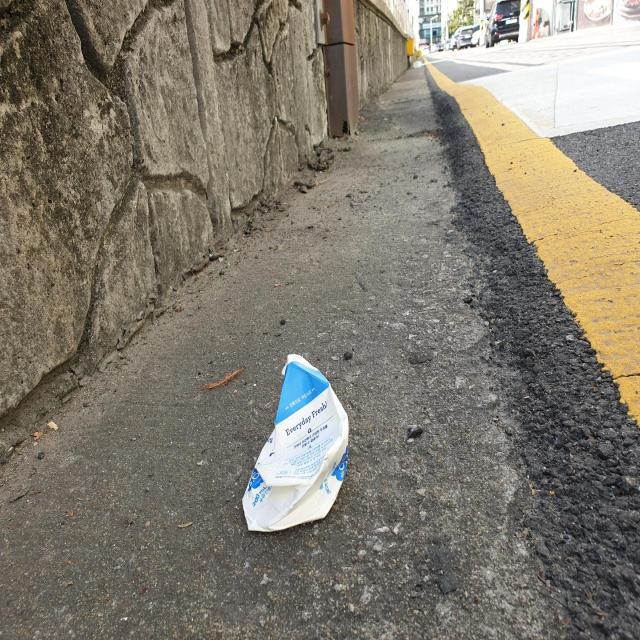paperpack: (242, 355, 349, 532)
